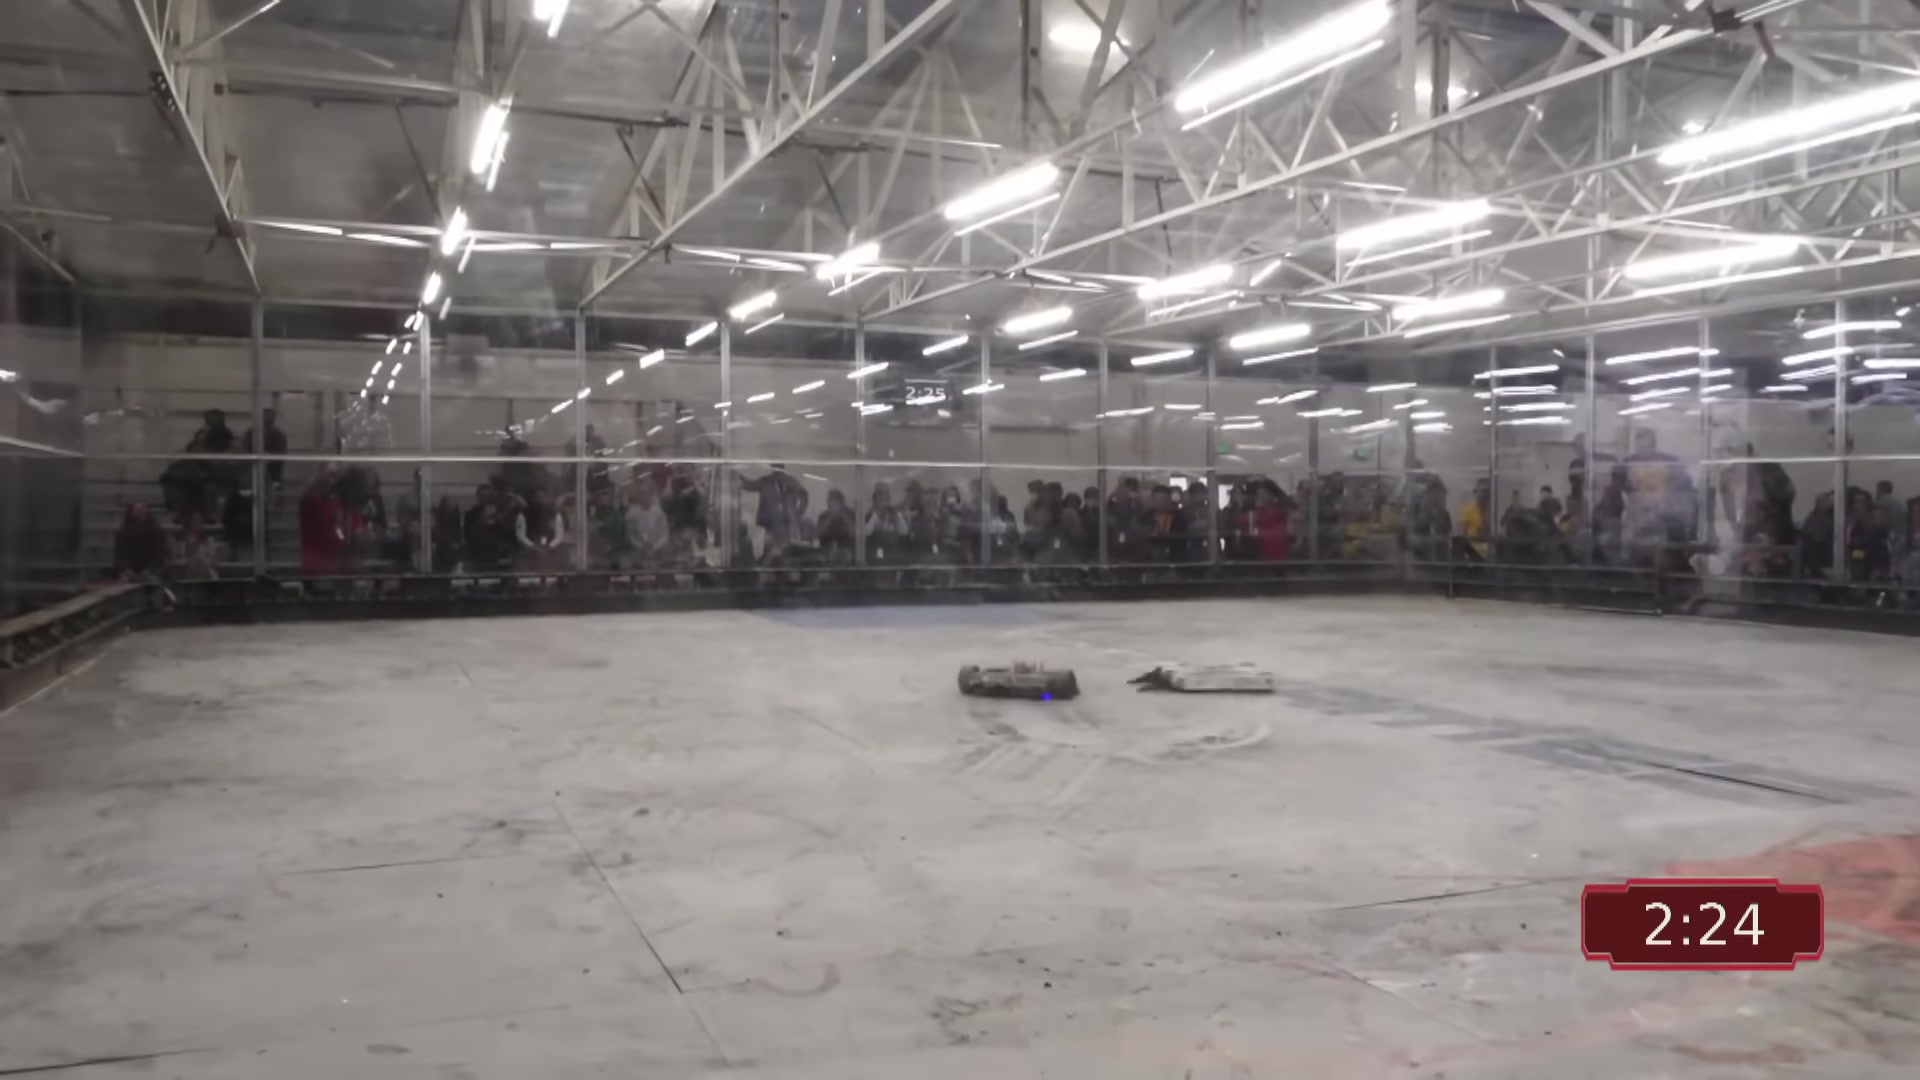combatbot: (957, 659, 1085, 704), (1129, 663, 1279, 694)
